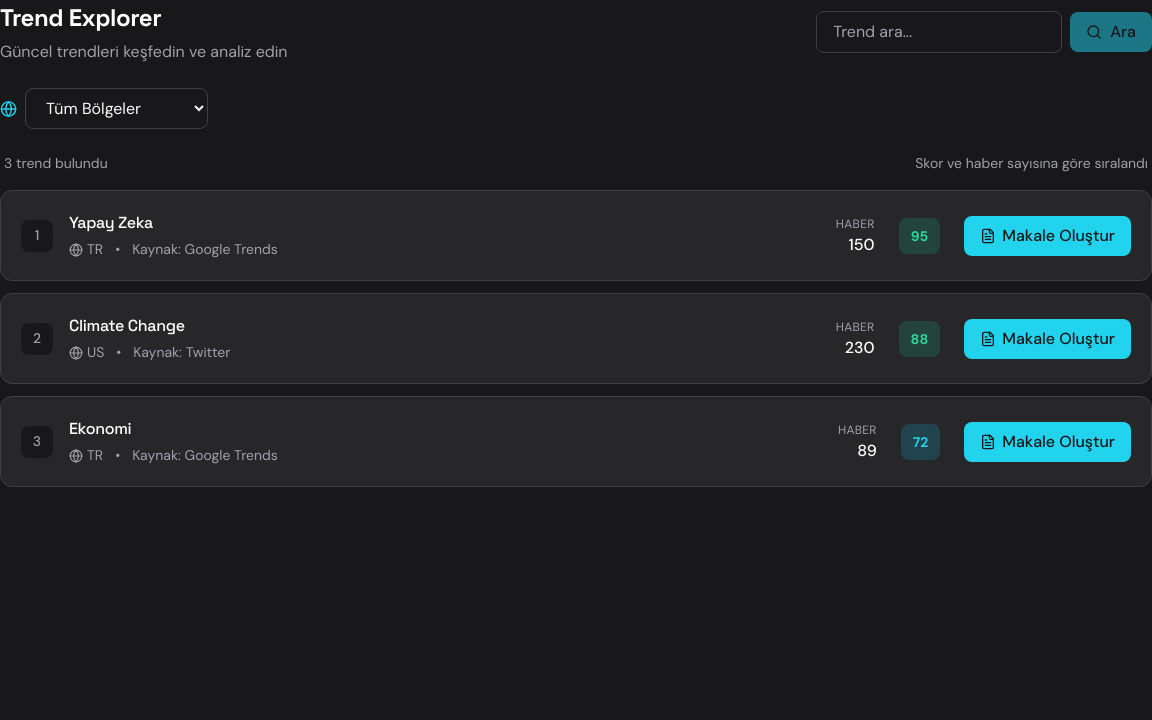
Test: TrendExplorer › Interest over time chart › fetches interest data when trend is selected
expect the heading "Yapay Zeka" is shown: met, box [69,212,153,233]
# Click on first trend
Click the button "Yapay Zeka" at (37, 236), box [0,190,1151,281]
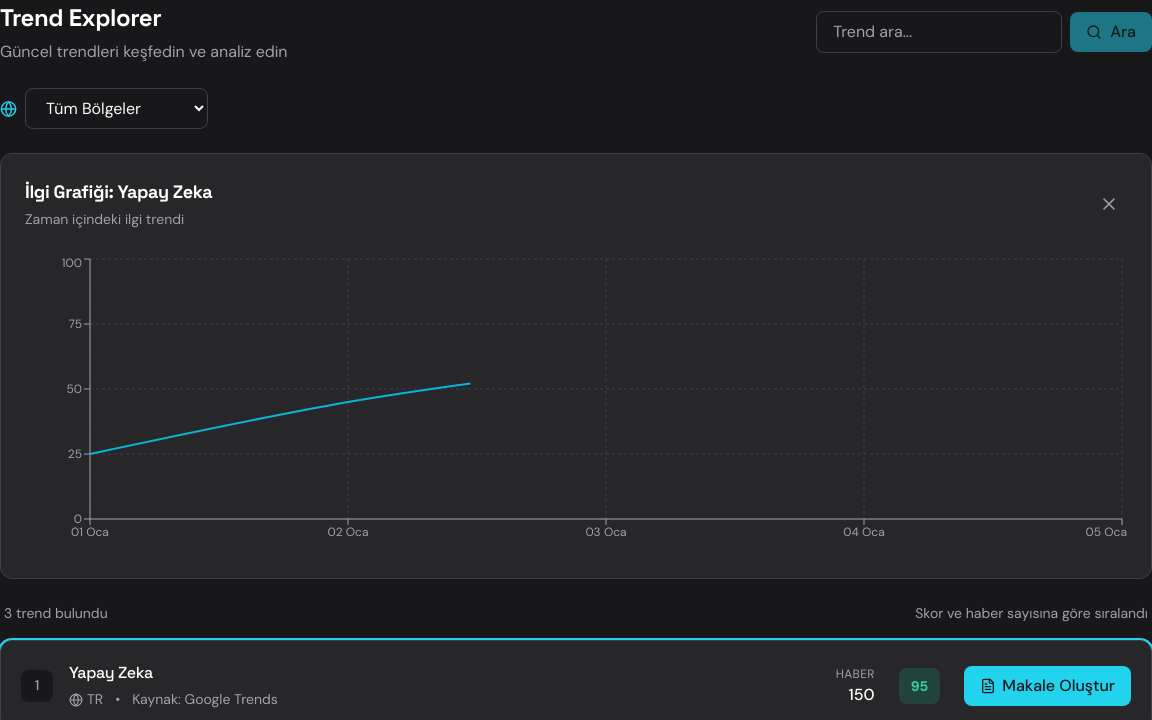
expect the heading "İlgi Grafiği: Yapay Zeka" is shown: met, box [25,178,212,205]
